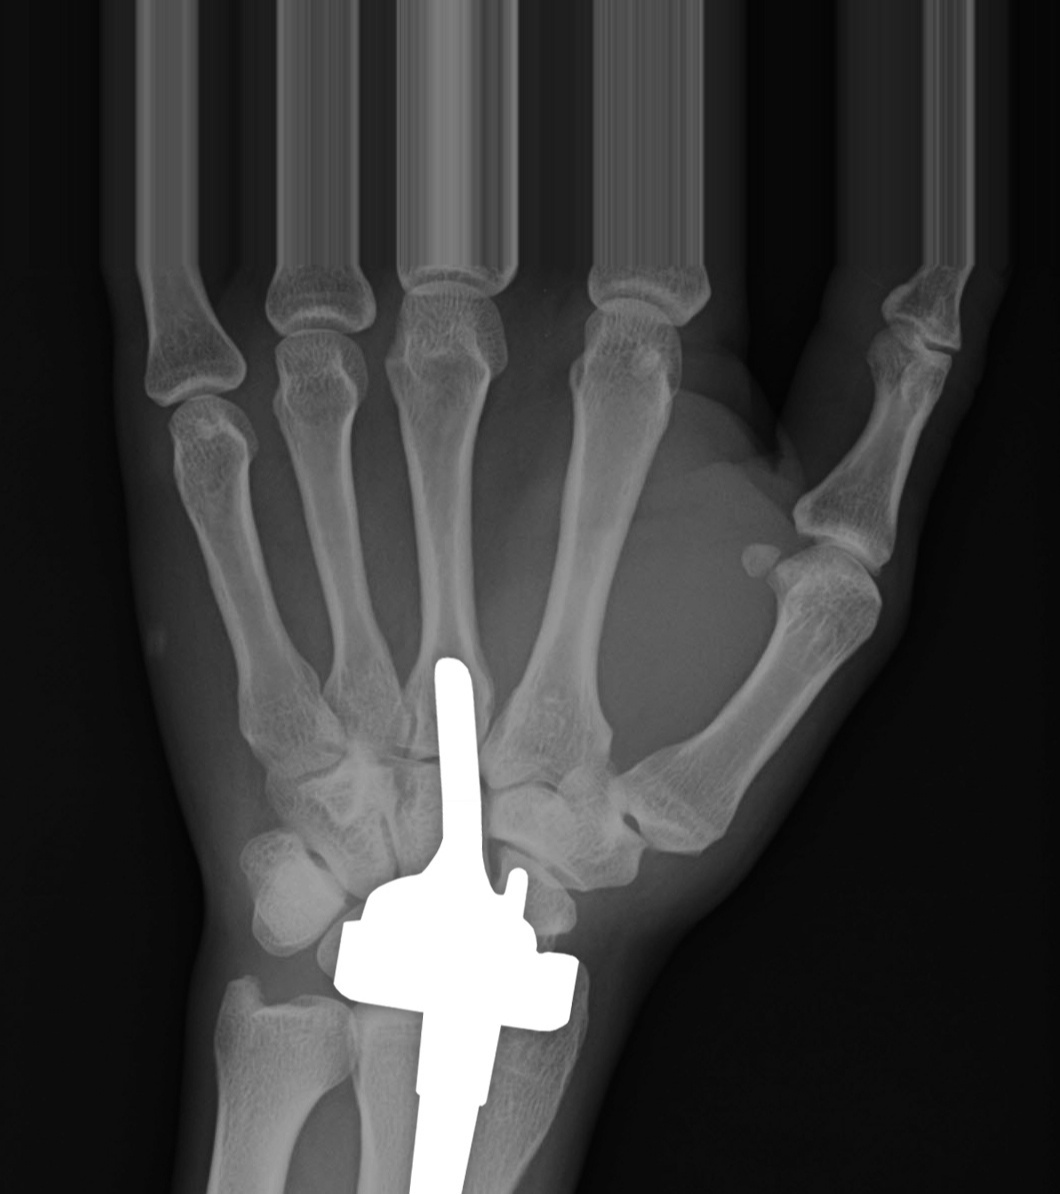Wrist-Biax-DePuuy: (288, 612, 583, 1194)
